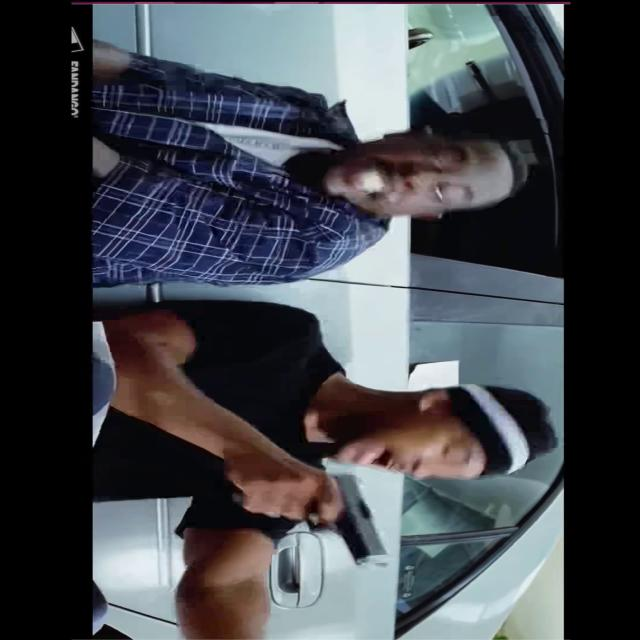weapons: (234, 472, 397, 570)
